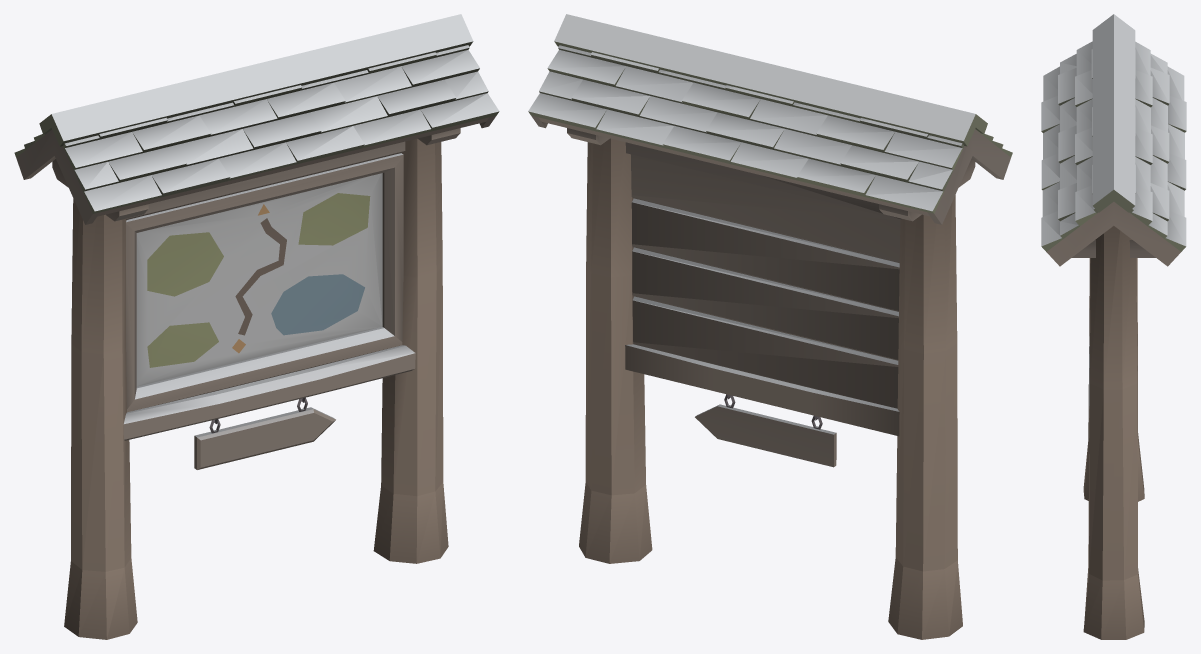
Rendered from trailsign.glb.
The picture shows the model from 3 angles, left to right: view 1: azimuth 30°, elevation 25°; view 2: azimuth 150°, elevation 25°; view 3: azimuth 270°, elevation 25°; orthographic projection. The views are drawn at different scales.
Visible parts, largest first — view 1: trailsign; view 2: trailsign; view 3: trailsign.
Boxes of the visible parts, box(x1,y1,x2,y2) form: trailsign: box(14, 14, 499, 639); trailsign: box(528, 14, 1012, 639); trailsign: box(1041, 14, 1186, 639).
Bounding box in the file's own units: 2.56 × 3.12 × 0.8966.
